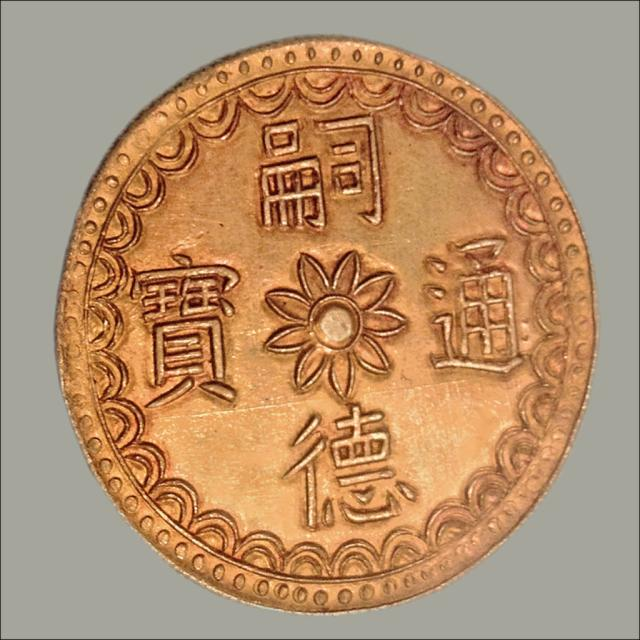Coin: (54, 34, 601, 615)
